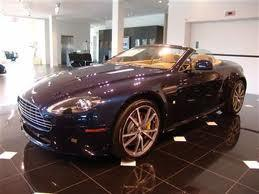Car: (14, 33, 259, 172)
